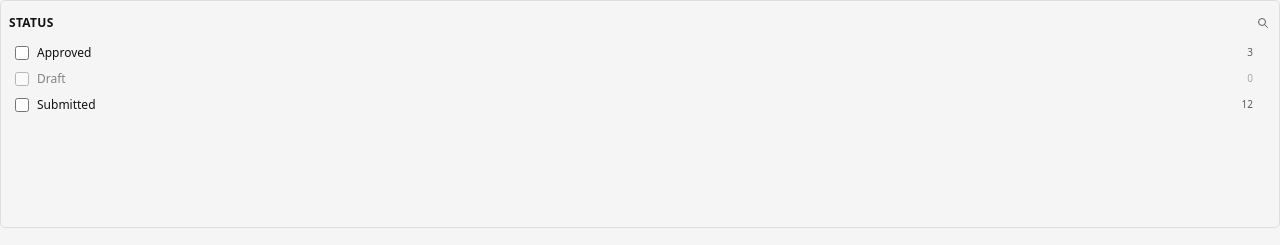
Test: FacetCard — search › reports no matches rather than showing an empty card
Click the button named "Search values".
click(1263, 23)  # box x1=1255 y1=15 x2=1271 y2=31
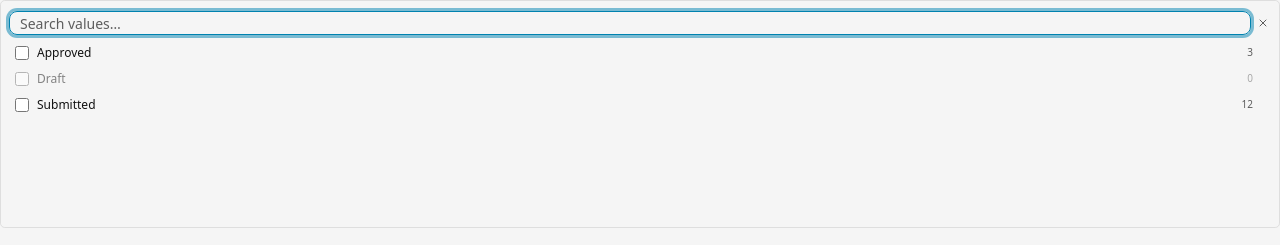
Type "zzz" into the field with placeholder "Search values…".
click(630, 23); type("zzz")  # box x1=9 y1=11 x2=1251 y2=35
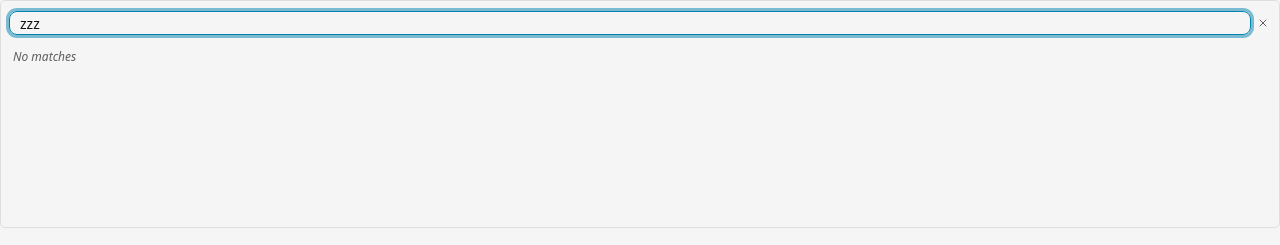
Expected: the text "No matches" is shown, x1=13 y1=48 x2=76 y2=65
